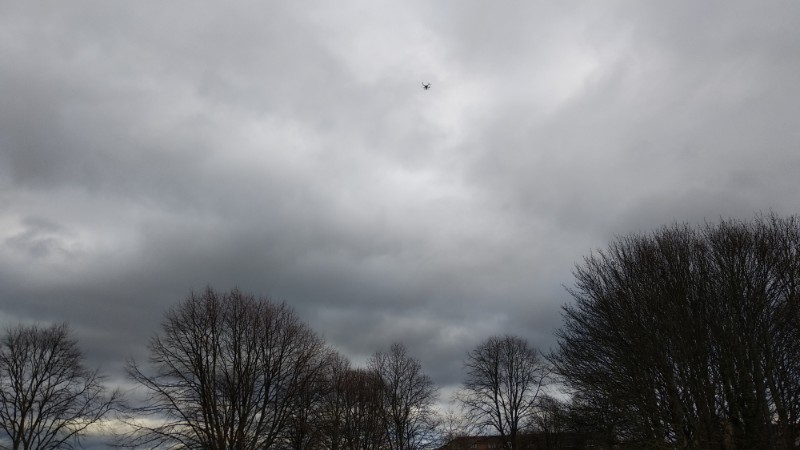drone: (421, 82, 432, 90)
